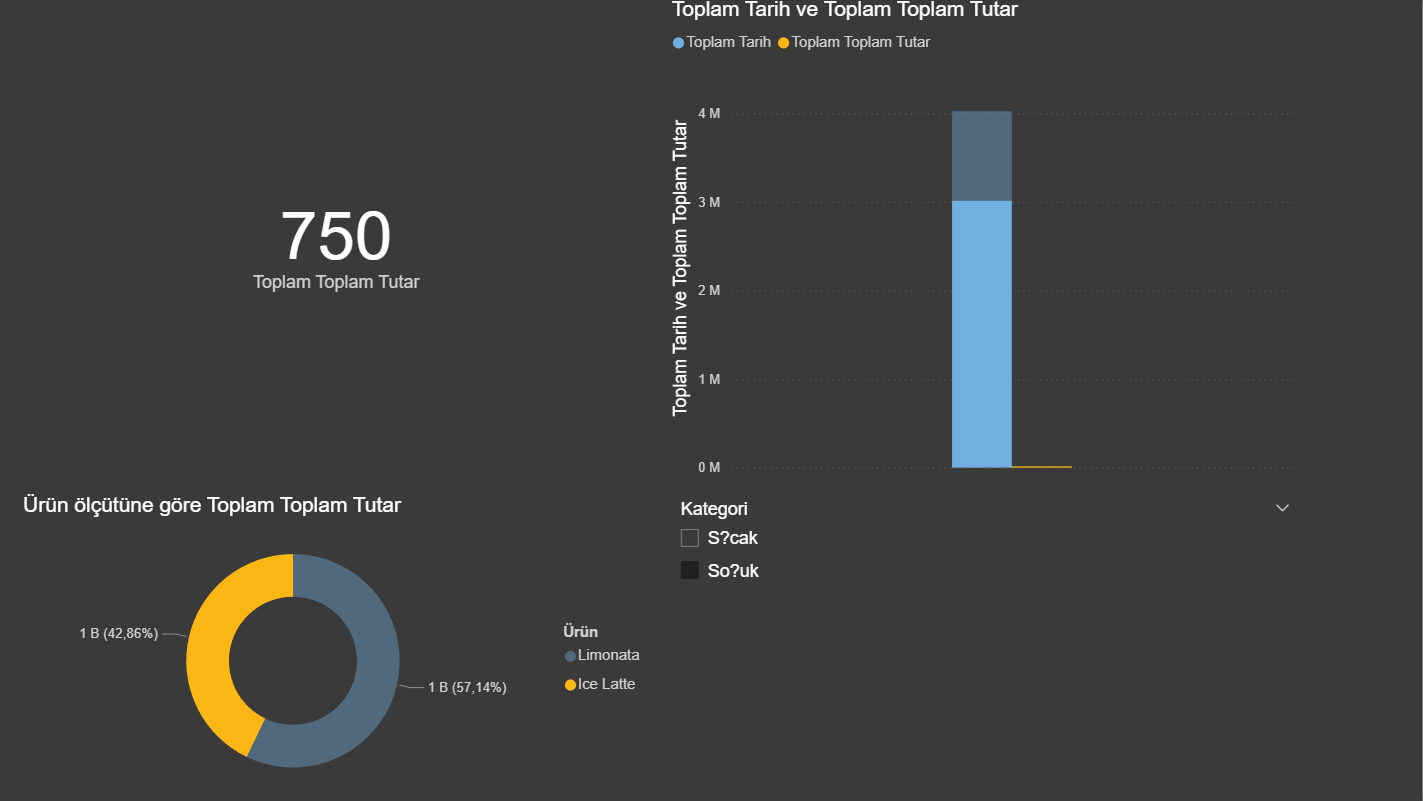

Layout of this report page (visuals, bound fields, positions):
{"tool":"powerbi","page":{"name":"1. sayfa","canvas":[1280,720],"ordinal":0},"visuals":[{"type":"card","fields":{"Values":["Sum(Kahve_Satis xlsx.Toplam Tutar)"]},"box":[28.8,0,568.1,432.2],"z":0},{"type":"donutChart","fields":{"Category":["Kahve_Satis xlsx.Ürün"],"Y":["Sum(Kahve_Satis xlsx.Toplam Tutar)"]},"box":[29,442,568,278],"z":1},{"type":"clusteredColumnChart","fields":{"Y":["Sum(Kahve_Satis xlsx.Tarih)","Sum(Kahve_Satis xlsx.Toplam Tutar)"]},"box":[607,0,568,432],"z":2},{"type":"slicer","fields":{"Values":["Kahve_Satis xlsx.Kategori"]},"box":[607,442,568,278],"z":3}]}

Visuals, with their boxes in screenshot pixels (x1, y1, x2, y2), scaled from the page's 1280x720 canvas onto the 1423x801 screenshot:
card - Sum(Kahve_Satis xlsx.Toplam Tutar): bbox=(32, 0, 664, 481)
donutChart - Kahve_Satis xlsx.Ürün x Sum(Kahve_Satis xlsx.Toplam Tutar): bbox=(32, 492, 664, 800)
clusteredColumnChart - Sum(Kahve_Satis xlsx.Tarih) x Sum(Kahve_Satis xlsx.Toplam Tutar): bbox=(675, 0, 1306, 481)
slicer - Kahve_Satis xlsx.Kategori: bbox=(675, 492, 1306, 800)
